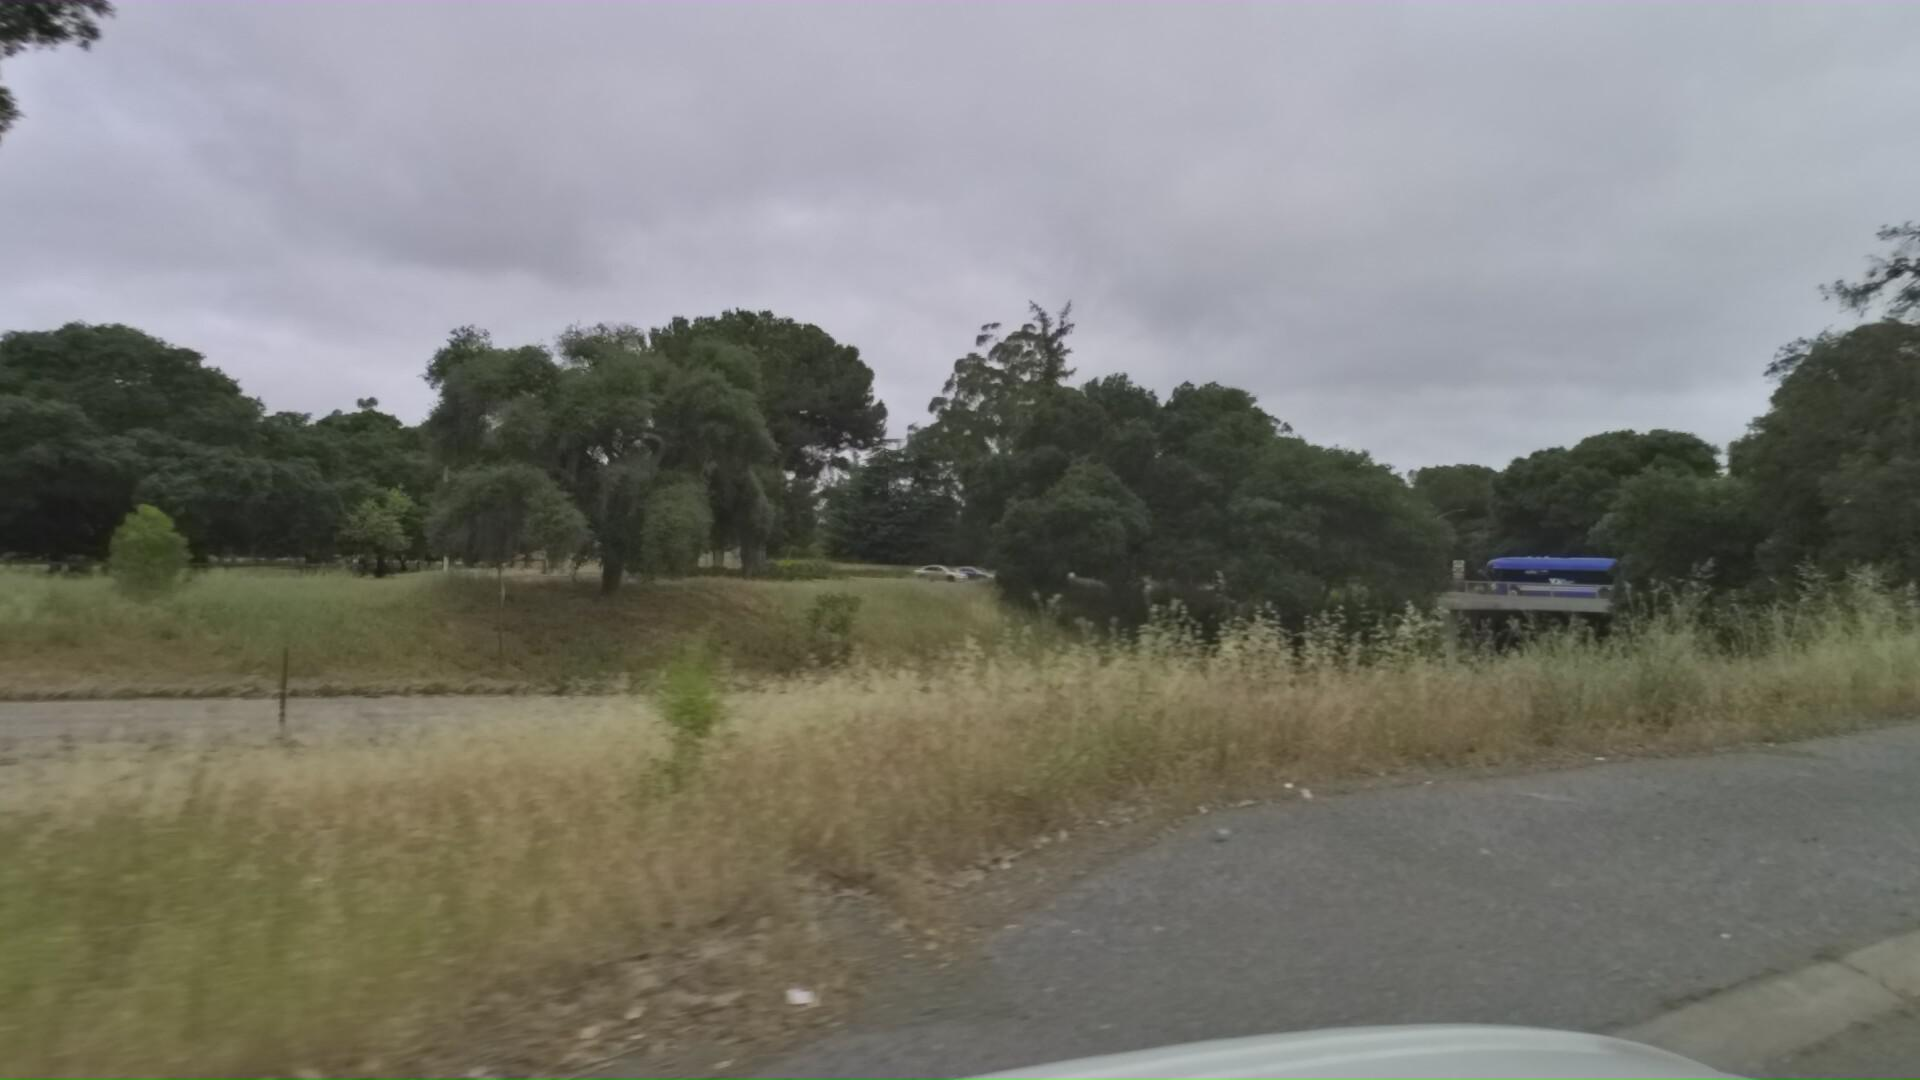bus: (1466, 549, 1741, 607)
car: (898, 555, 971, 580), (928, 556, 1000, 582)
